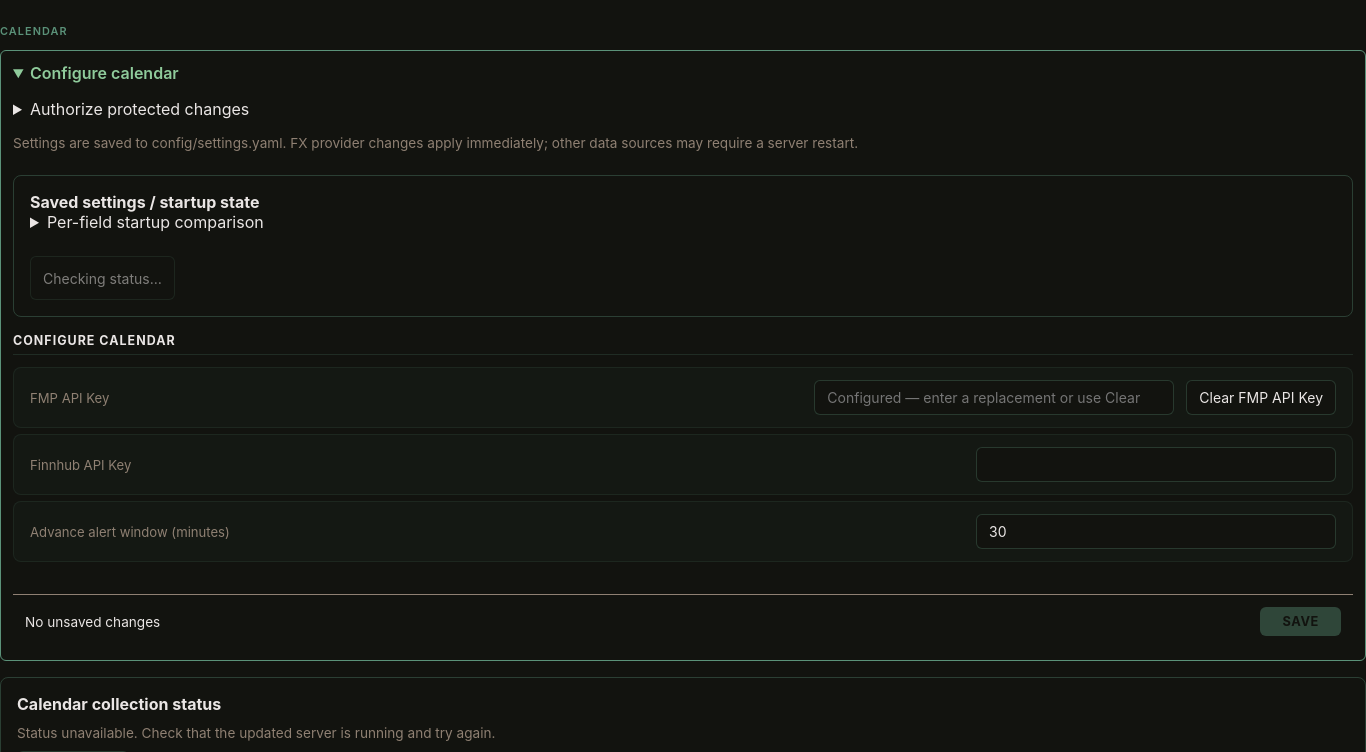
Scenario: offers focused calendar settings on empty results and saves only edited fields
This screenshot has width=1366, height=752.
Expected: the password field labelled "FMP API Key" is empty, [814,380,1174,415]
Replace the text in the field labelled "Advance alert window (minutes)" with "45" at (1156, 532), box [976,514,1336,549]
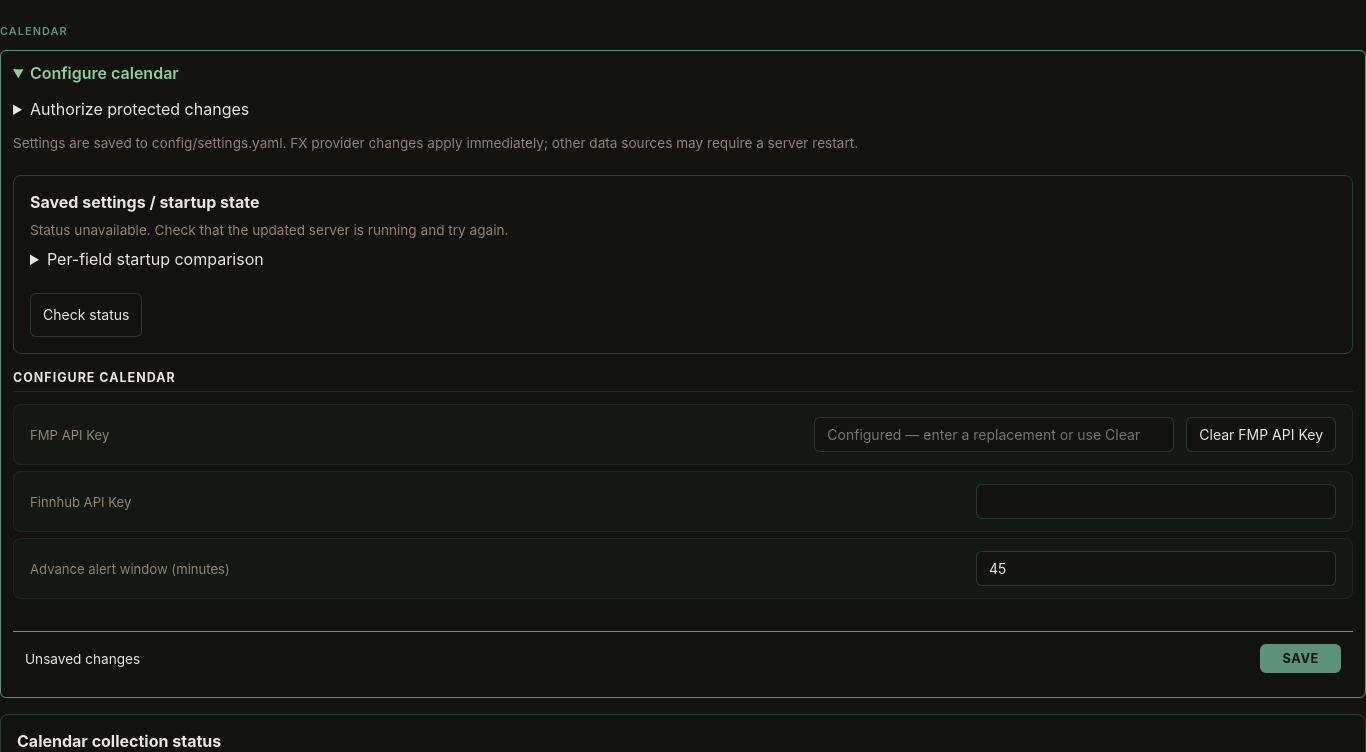
Click the button "Save" at (1301, 659), box [1260,644,1341,673]
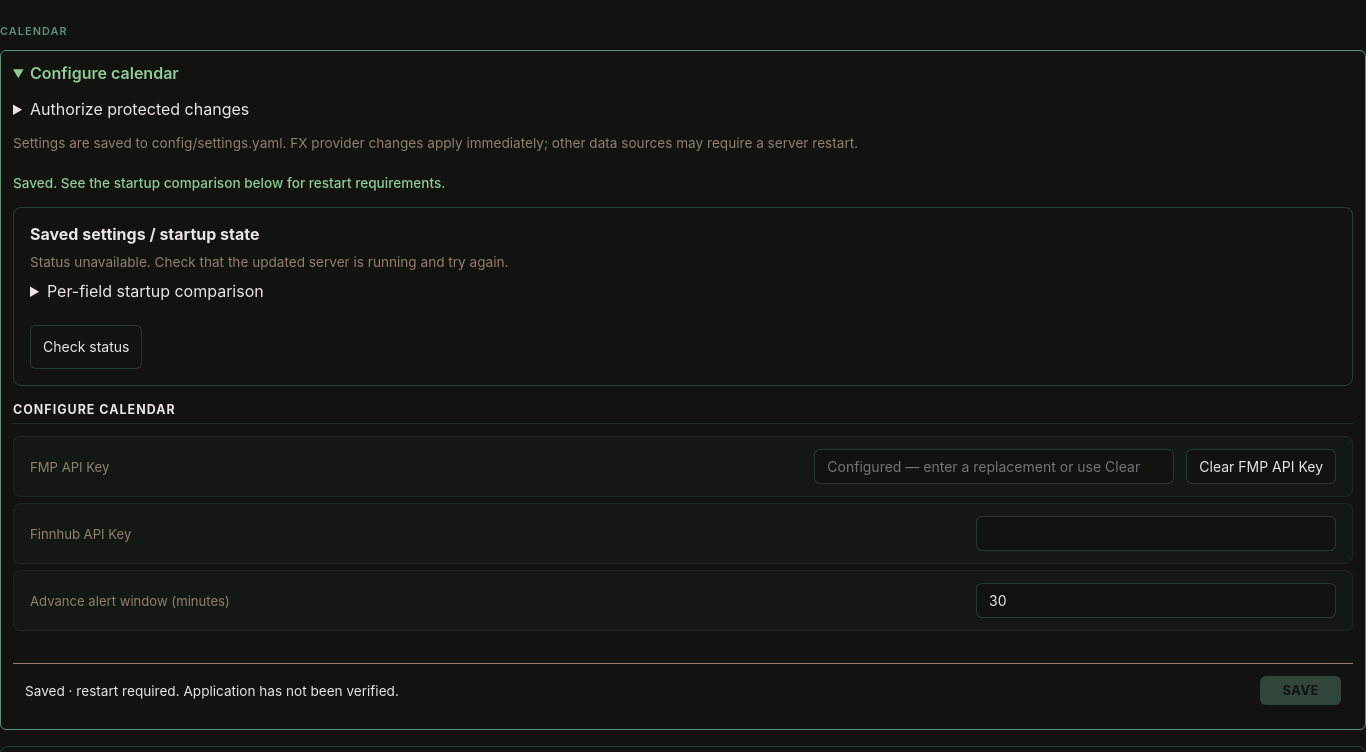
Expected: the text "Saved. See the startup comparison" is shown, [13,175,445,191]
